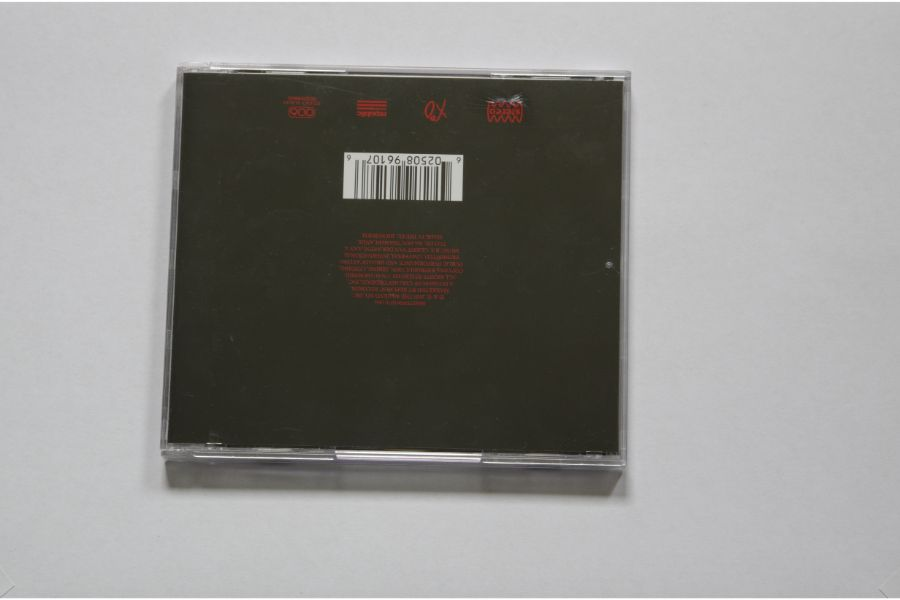album: (160, 58, 632, 478)
